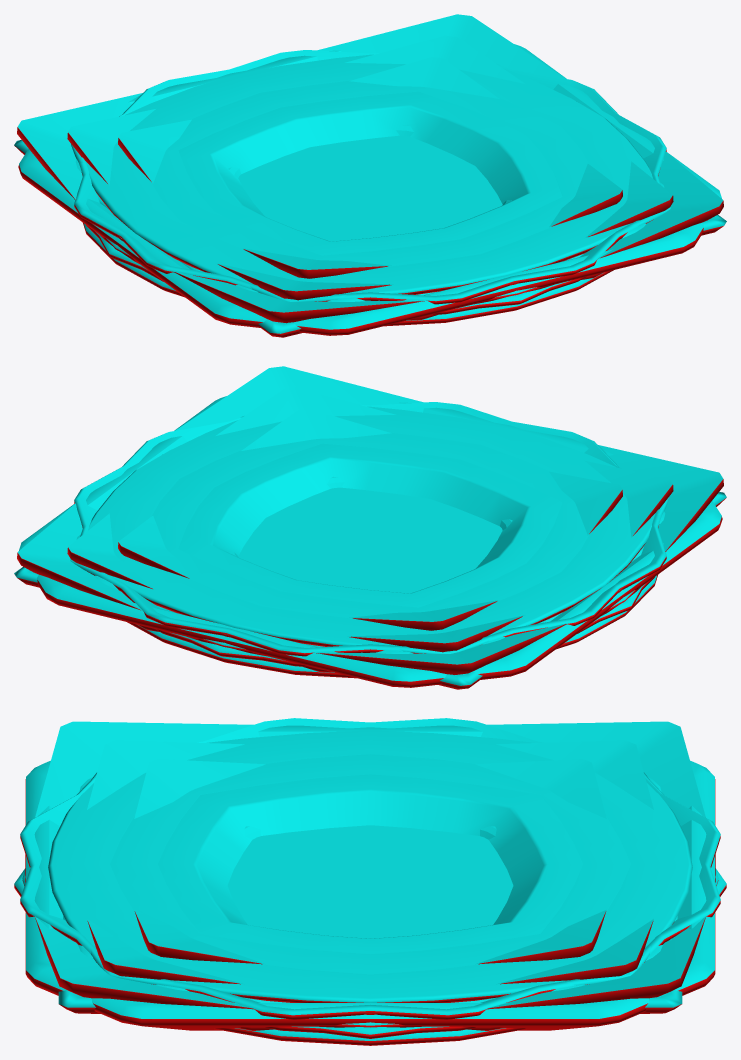
Rendered from plates_grp.fbx.
3 views of the same model, one above another, from view 1: azimuth 30°, elevation 25°; view 2: azimuth 150°, elevation 25°; view 3: azimuth 270°, elevation 25° (orthographic). The views are drawn at different scales.
Parts seen in each view (by area): view 1: plate_30, plate_18, plate_16, plate_17, plate_15, plate_14, plate_3, plate_13, plate_27, plate_29, plate_12, plate_24; view 2: plate_30, plate_18, plate_16, plate_17, plate_15, plate_14, plate_3, plate_13, plate_27, plate_29, plate_12, plate_24; view 3: plate_30, plate_18, plate_16, plate_17, plate_15, plate_14, plate_3, plate_13, plate_27, plate_29, plate_12, plate_24 (+2 smaller).
Boxes of the visible parts, left/top/right/bottom form: plate_30: left=18, top=44, right=721, bottom=335; plate_18: left=71, top=54, right=670, bottom=301; plate_16: left=178, top=91, right=562, bottom=255; plate_17: left=150, top=80, right=589, bottom=266; plate_15: left=17, top=14, right=723, bottom=323; plate_14: left=67, top=35, right=673, bottom=300; plate_3: left=74, top=50, right=666, bottom=304; plate_13: left=118, top=57, right=622, bottom=278; plate_27: left=83, top=223, right=613, bottom=326; plate_29: left=75, top=64, right=664, bottom=301; plate_12: left=14, top=140, right=726, bottom=337; plate_24: left=99, top=235, right=551, bottom=308; plate_30: left=19, top=396, right=722, bottom=687; plate_18: left=70, top=406, right=669, bottom=653; plate_16: left=178, top=443, right=562, bottom=607; plate_17: left=151, top=432, right=590, bottom=618; plate_15: left=17, top=366, right=723, bottom=674; plate_14: left=67, top=387, right=673, bottom=652; plate_3: left=74, top=402, right=666, bottom=656; plate_13: left=118, top=409, right=622, bottom=630; plate_27: left=127, top=575, right=657, bottom=678; plate_29: left=76, top=416, right=665, bottom=653; plate_12: left=14, top=491, right=726, bottom=689; plate_24: left=189, top=587, right=641, bottom=660; plate_30: left=25, top=725, right=715, bottom=1030; plate_18: left=48, top=730, right=692, bottom=1002; plate_16: left=158, top=774, right=582, bottom=953; plate_17: left=110, top=754, right=630, bottom=974; plate_15: left=30, top=721, right=710, bottom=1014; plate_14: left=87, top=740, right=653, bottom=984; plate_3: left=20, top=718, right=720, bottom=1019; plate_13: left=134, top=759, right=606, bottom=964; plate_27: left=214, top=1028, right=526, bottom=1045; plate_29: left=78, top=777, right=662, bottom=991; plate_12: left=58, top=916, right=682, bottom=1013; plate_24: left=14, top=868, right=726, bottom=1038.
Bounding box in the file's own units: 29.86 × 2.91 × 29.86.
